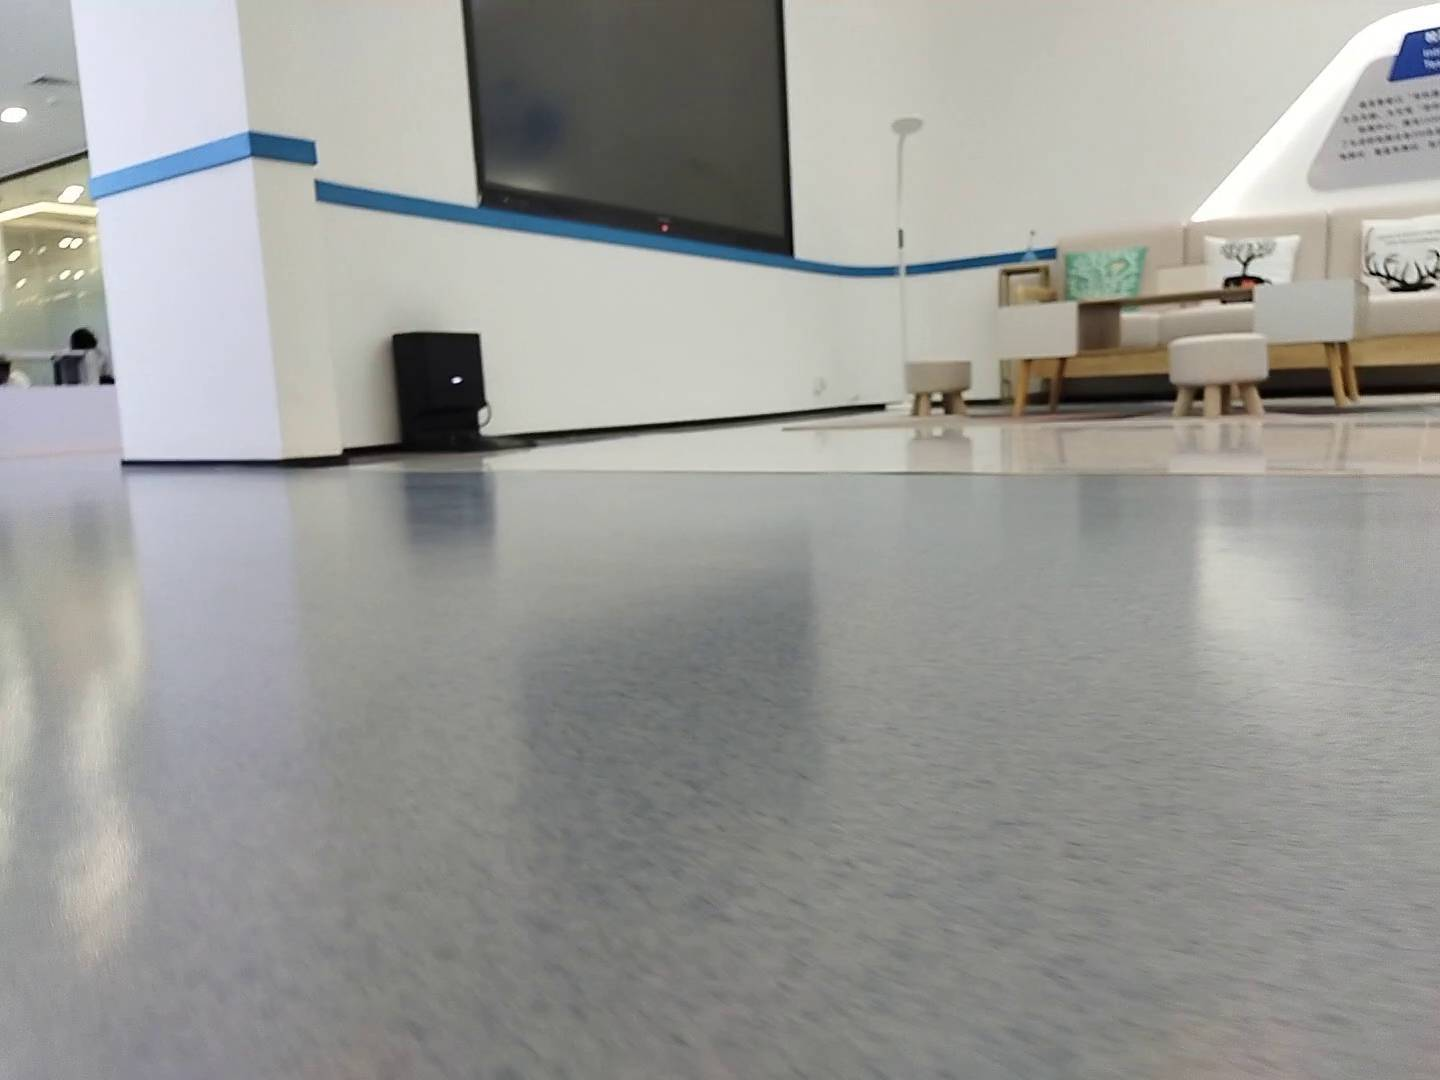dust collecting barrel: (391, 328, 544, 453)
